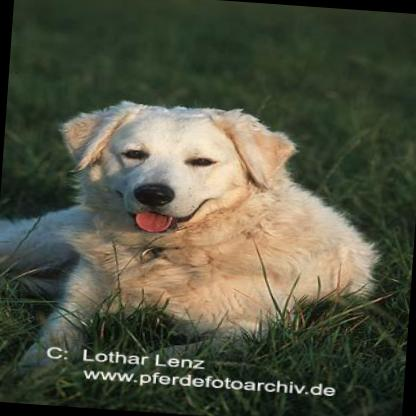kuvasz: (0, 92, 388, 412)
